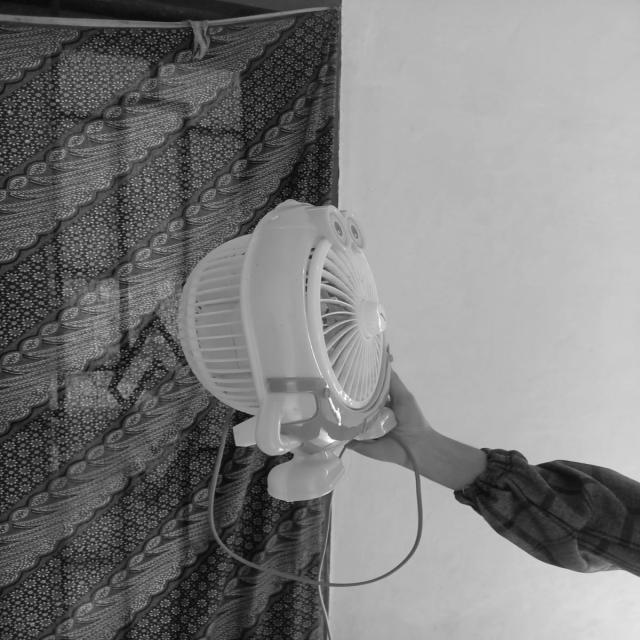fan: (166, 186, 422, 504)
